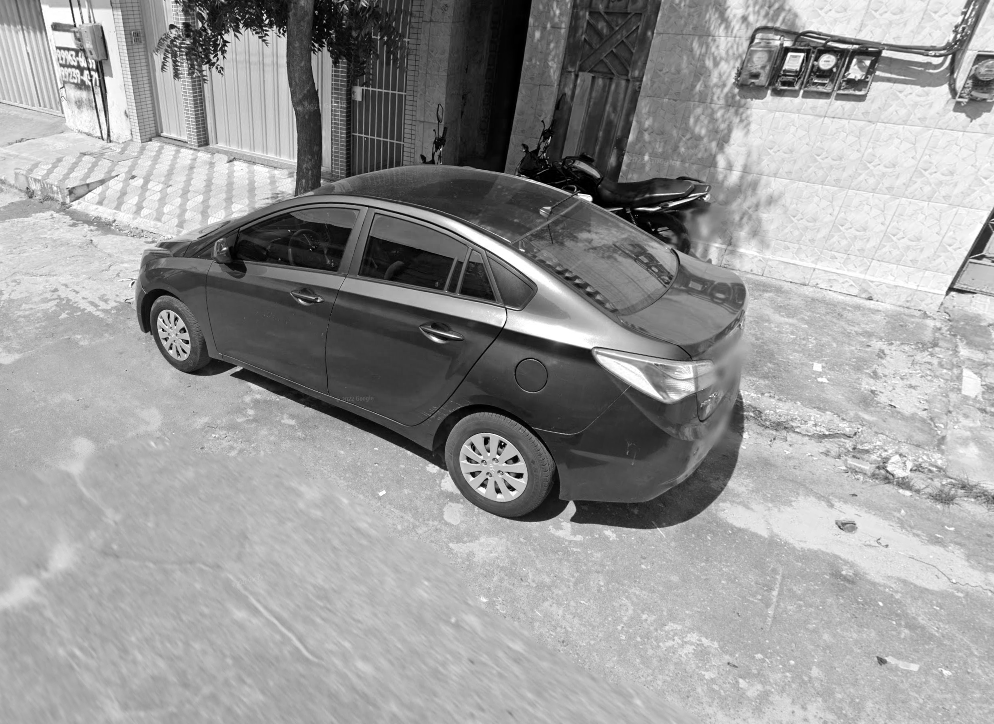car: (132, 149, 750, 545)
